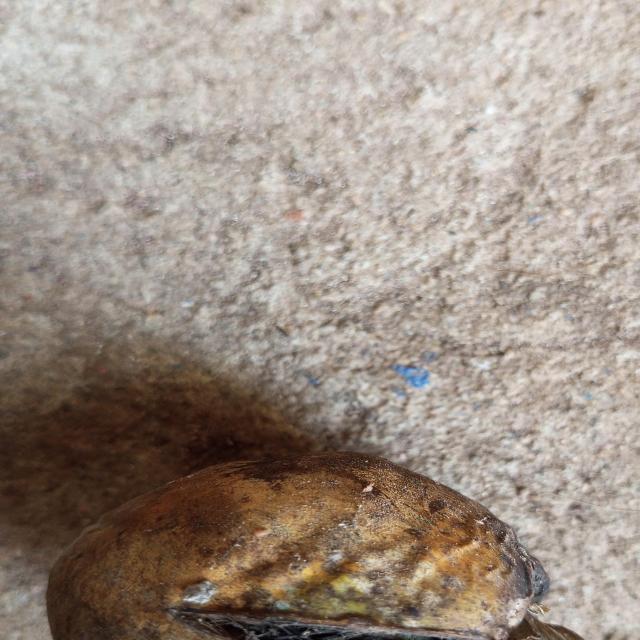damaged: (47, 453, 549, 640)
